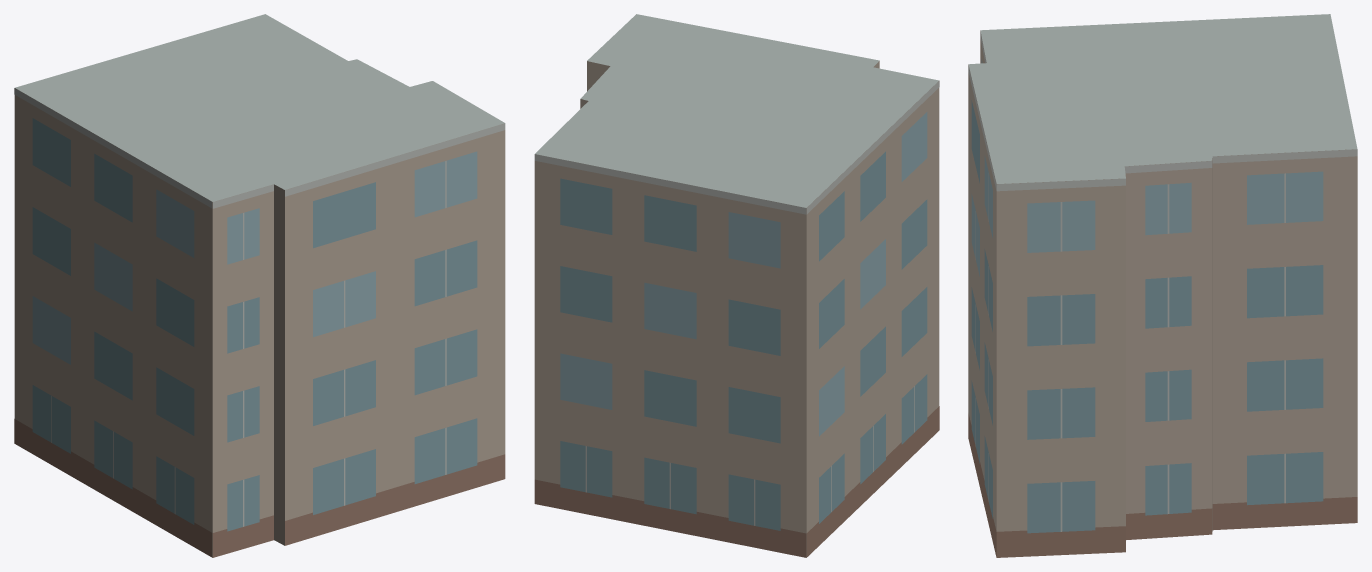
File: survey-upis-32670463.glb
3 views of the same model, side by side, from view 1: azimuth 30°, elevation 25°; view 2: azimuth 150°, elevation 25°; view 3: azimuth 270°, elevation 25° (orthographic). The views are drawn at different scales.
Parts seen in each view (by area): view 1: survey-upis-32670463.tmp; view 2: survey-upis-32670463.tmp; view 3: survey-upis-32670463.tmp.
Part boxes in pixels (box(x1,y1,x2,y2)): survey-upis-32670463.tmp: box(14, 14, 505, 557); survey-upis-32670463.tmp: box(534, 14, 939, 557); survey-upis-32670463.tmp: box(968, 14, 1357, 557).
Size of the model in its own units: 12.41 by 12.7 by 11.99.
